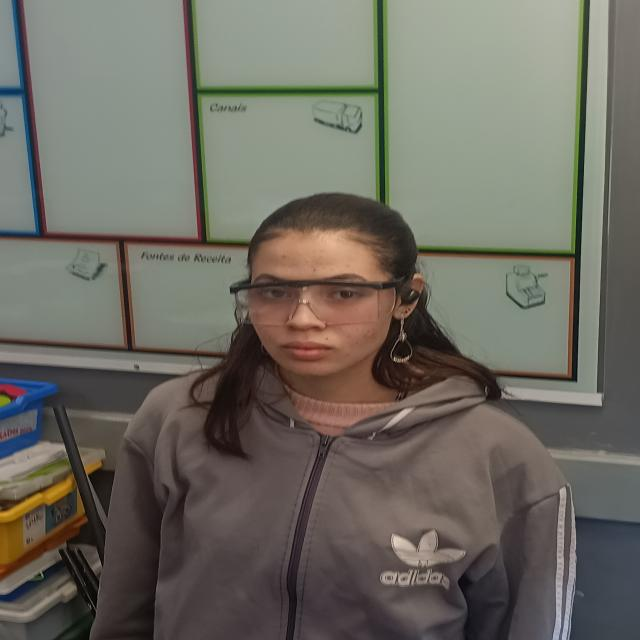oculos-epi: (230, 280, 398, 326)
